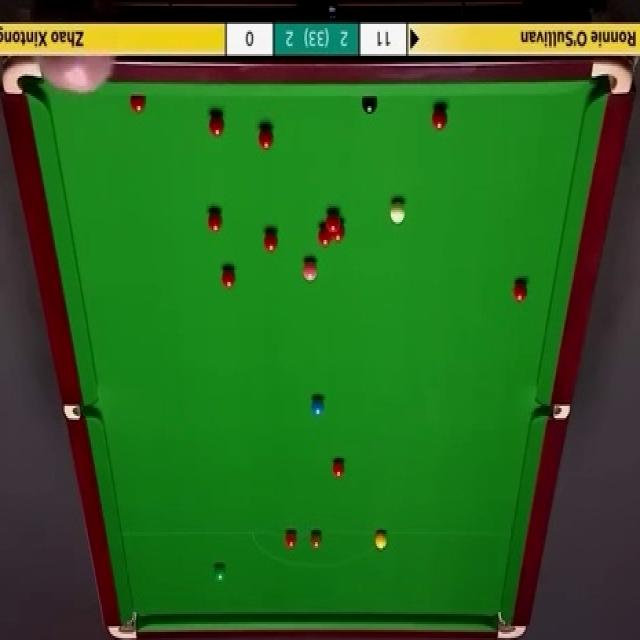black-ball: (360, 94, 378, 115)
blue-ball: (310, 396, 325, 416)
brown-ball: (310, 532, 322, 552)
green-ball: (214, 562, 228, 584)
pink-ball: (301, 256, 318, 281)
red-ball: (430, 105, 449, 131), (208, 112, 226, 138), (220, 265, 236, 291), (260, 125, 274, 154), (513, 275, 528, 302), (209, 205, 223, 232), (331, 457, 347, 480), (263, 230, 278, 254), (332, 218, 346, 242), (283, 528, 297, 552), (130, 95, 146, 115), (318, 222, 331, 246), (324, 210, 340, 229)
white-ball: (388, 202, 407, 225)
yellow-ball: (374, 531, 388, 549)
